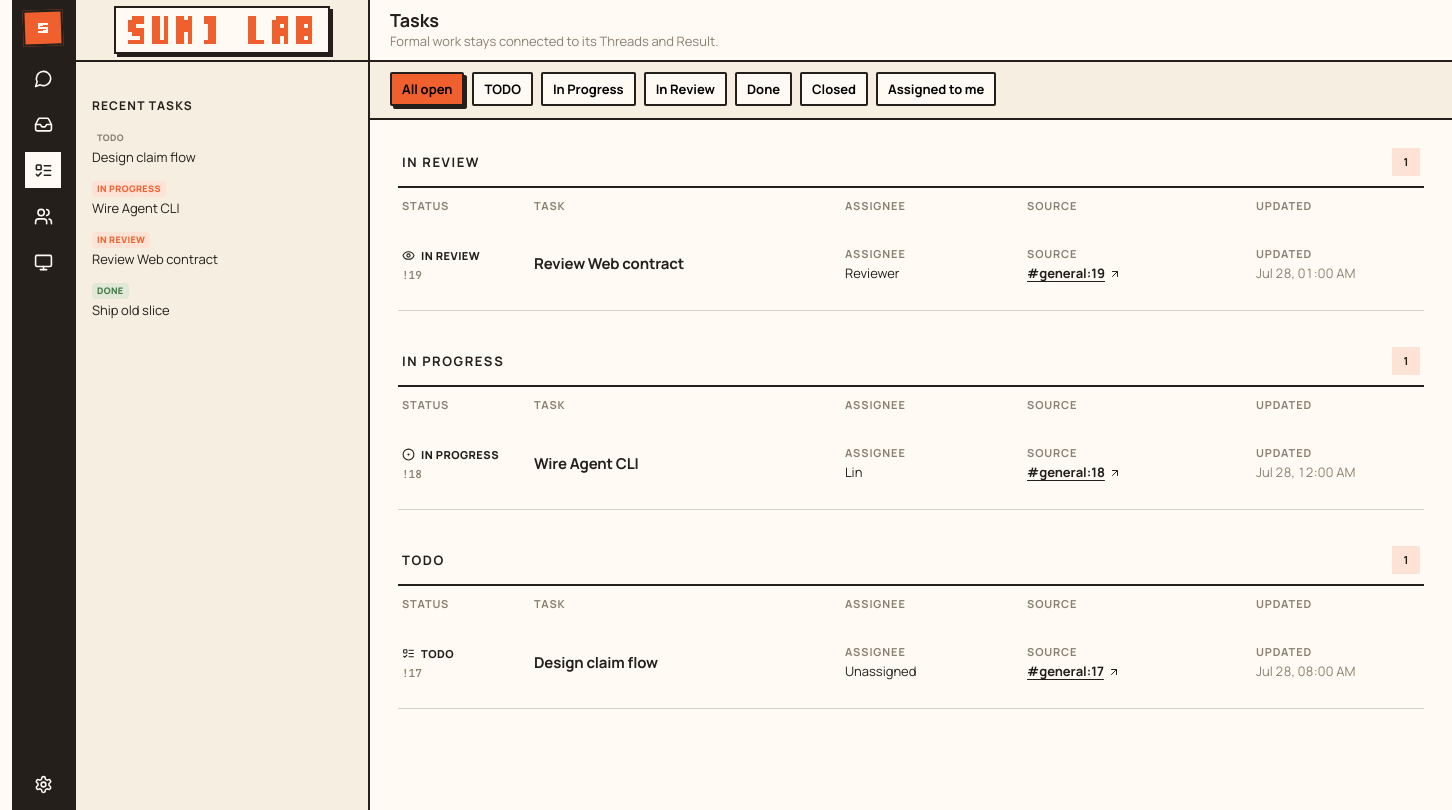
Test: Task work index › orders open statuses, filters history, and links to the Source Thread
Check: the heading "Tasks" is shown, box [390,8,439,32]
Check: the link "Review Web contract" is shown, box [534,254,684,274]
Click the button "Done" at (764, 89), box [735,72,792,106]
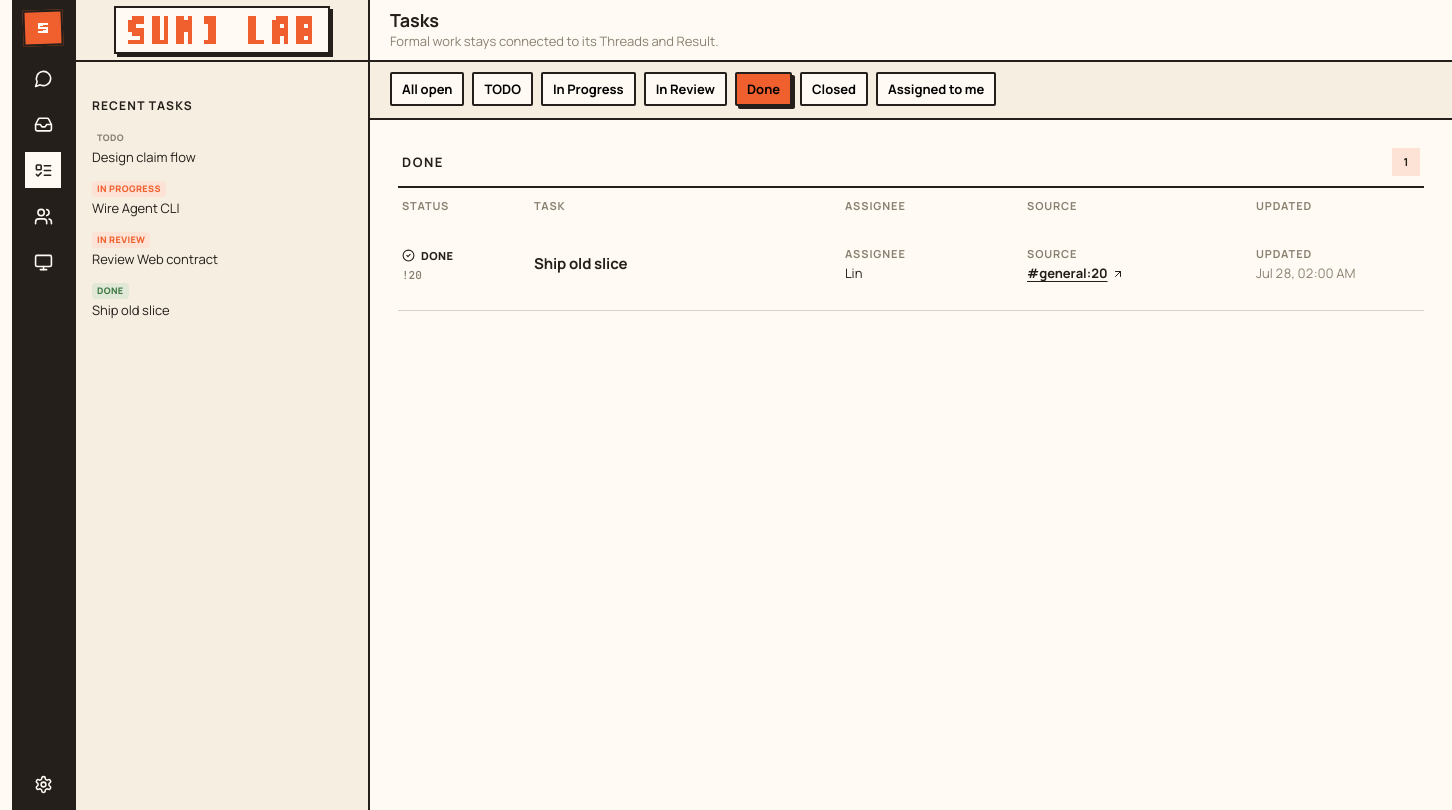
Check: the text "Ship old slice" next to "Lin" is shown, box [534,254,627,274]
Click the button "Closed" at (834, 89), box [800,72,868,106]
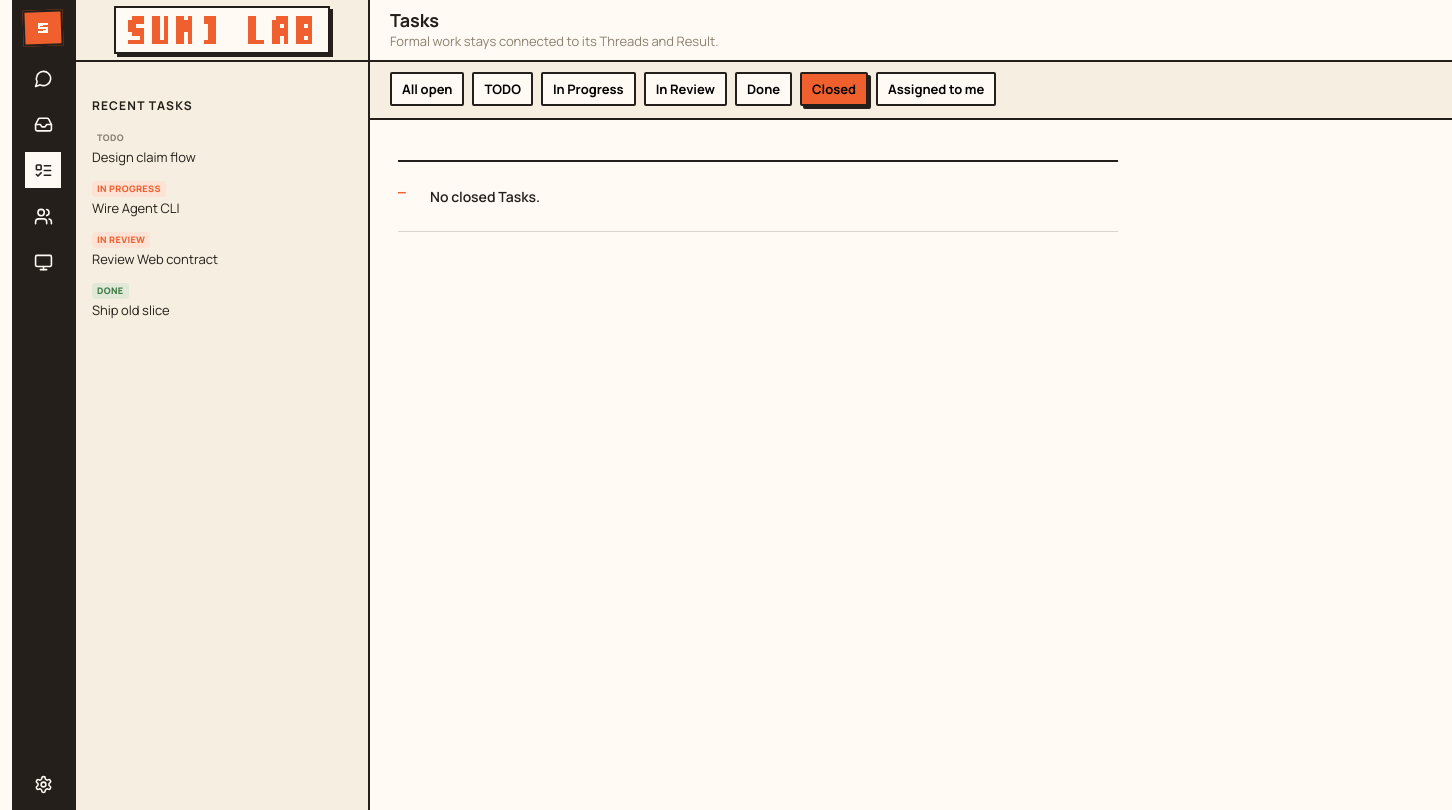
Check: the text "No closed Tasks." is shown, box [430,187,540,206]
